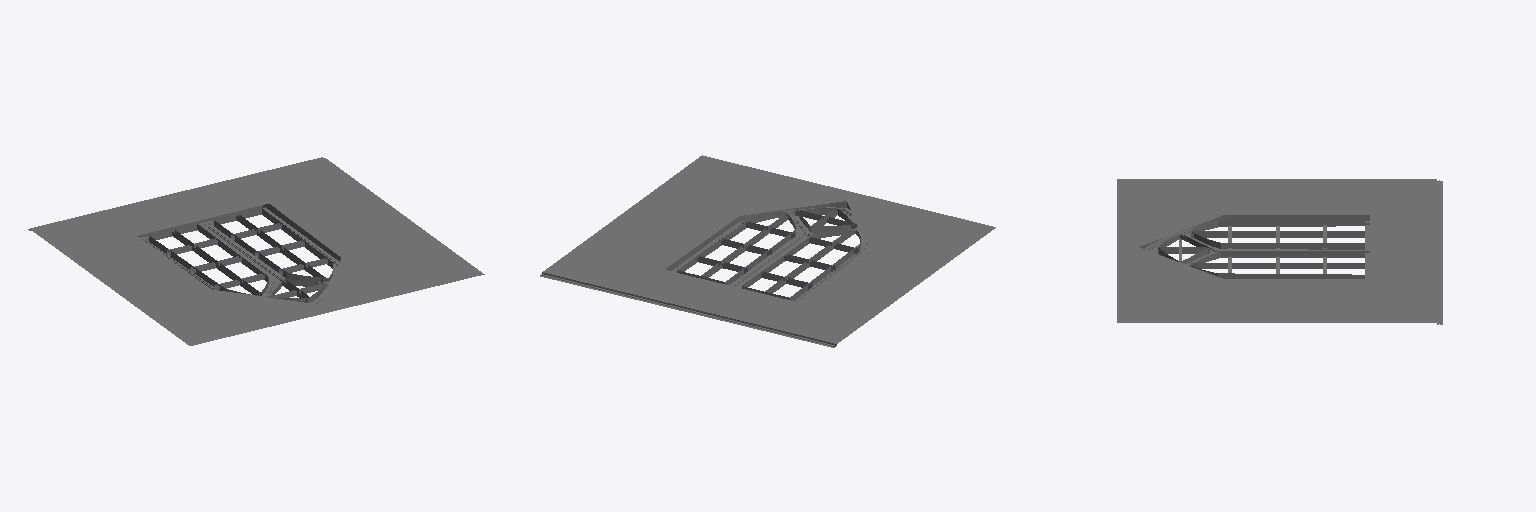
File: Archwindow.obj
The picture shows the model from 3 angles: view 1: azimuth 30°, elevation 25°; view 2: azimuth 150°, elevation 25°; view 3: azimuth 270°, elevation 25°; orthographic projection.
Visible parts, largest first — view 1: Wall:group Wall:group1 Wall:pPlane11 Wall:polySurface2 Wall:Wall, Wall:Wall:Wall:pCube1; view 2: Wall:group Wall:group1 Wall:pPlane11 Wall:polySurface2 Wall:Wall, Wall:Wall:Wall:pCube1; view 3: Wall:group Wall:group1 Wall:pPlane11 Wall:polySurface2 Wall:Wall, Wall:Wall:Wall:pCube1.
Boxes of the visible parts, x1,y1,x2,y2 form: Wall:group Wall:group1 Wall:pPlane11 Wall:polySurface2 Wall:Wall: [28, 157, 484, 345]; Wall:Wall:Wall:pCube1: [137, 204, 340, 304]; Wall:group Wall:group1 Wall:pPlane11 Wall:polySurface2 Wall:Wall: [540, 155, 995, 347]; Wall:Wall:Wall:pCube1: [665, 201, 868, 301]; Wall:group Wall:group1 Wall:pPlane11 Wall:polySurface2 Wall:Wall: [1117, 179, 1442, 324]; Wall:Wall:Wall:pCube1: [1140, 215, 1369, 278].
Bounding box in the file's own units: 12.75 × 0.423 × 12.19.